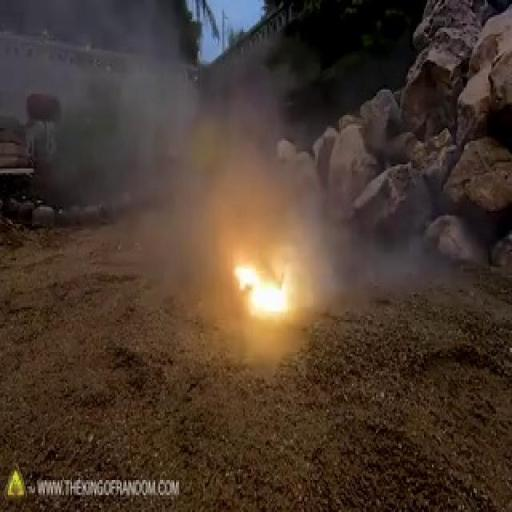smoke: (230, 258, 296, 324)
